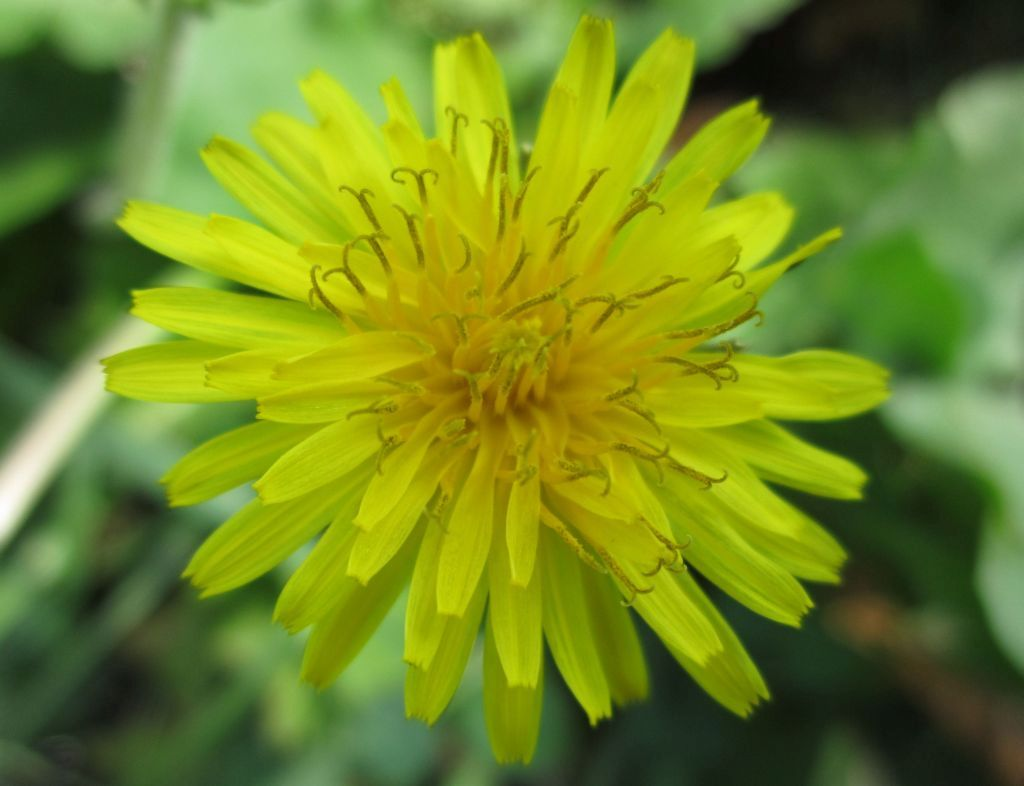dandelion: (142, 105, 856, 715)
